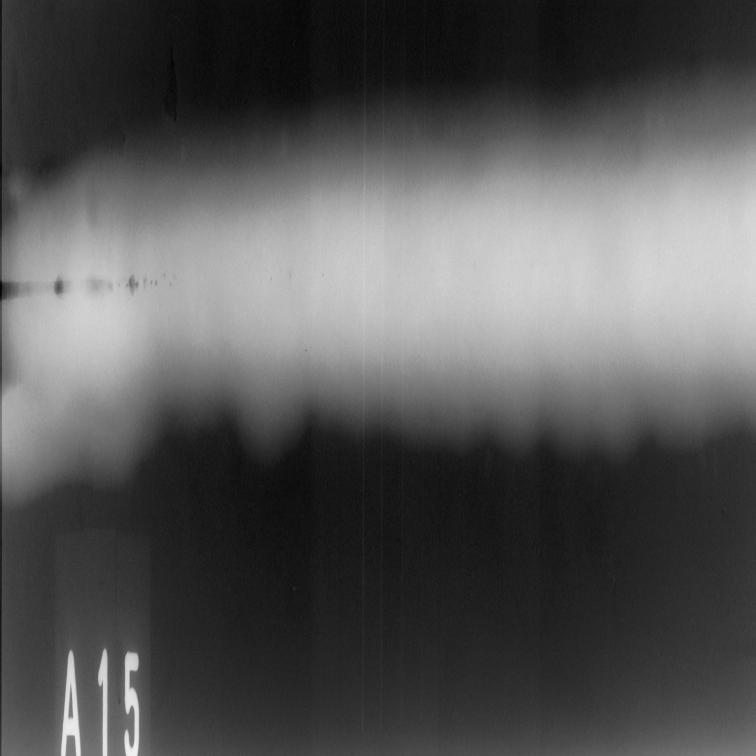FF: (134, 373, 505, 551), (14, 86, 88, 219)
FP: (0, 222, 193, 349)
